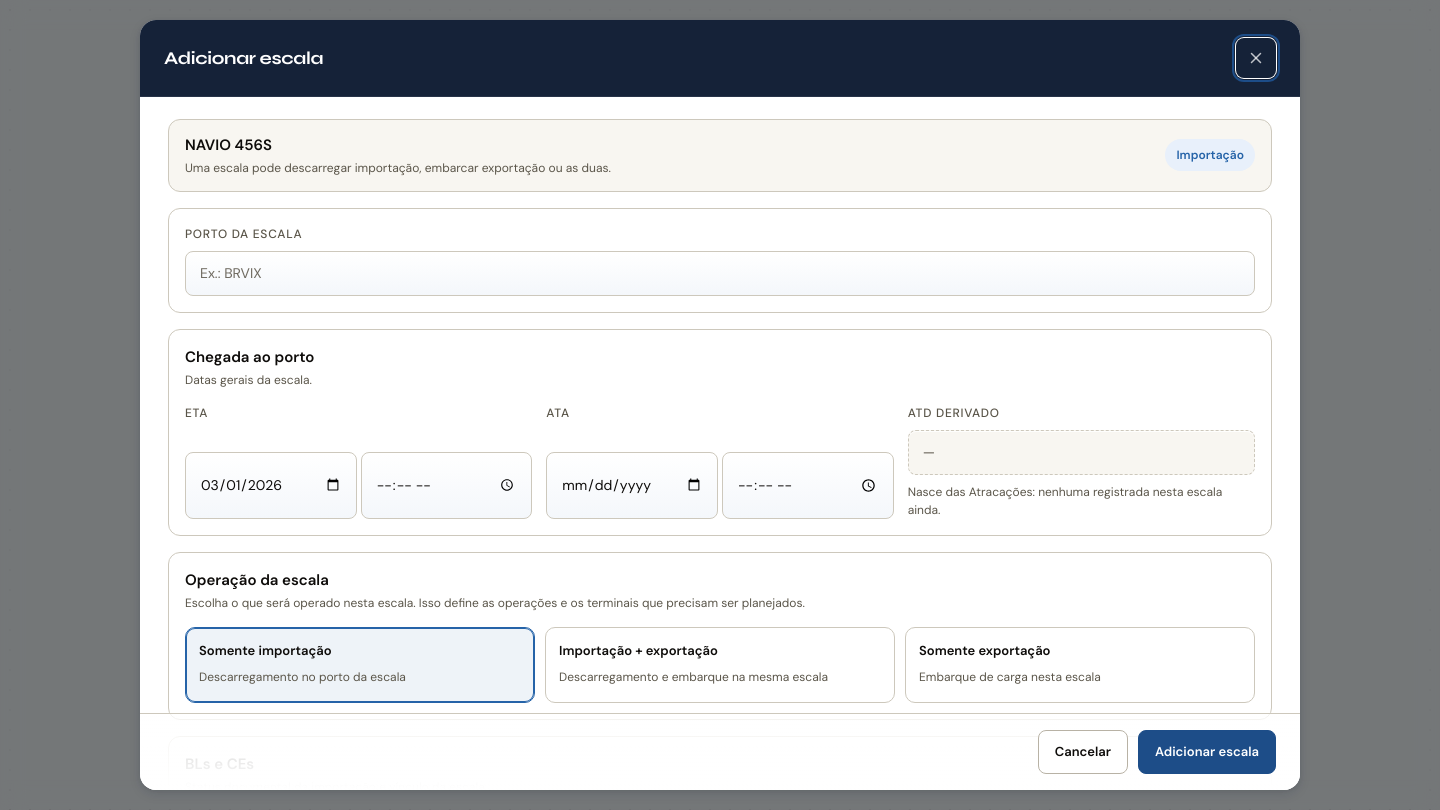
it: EscalaModal › exige uma frente ao declarar exportação em uma escala nova
This screenshot has width=1440, height=810.
Type "BRVIX" into the field labelled "Porto da escala" at x=720, y=273, box [185,251,1255,296]
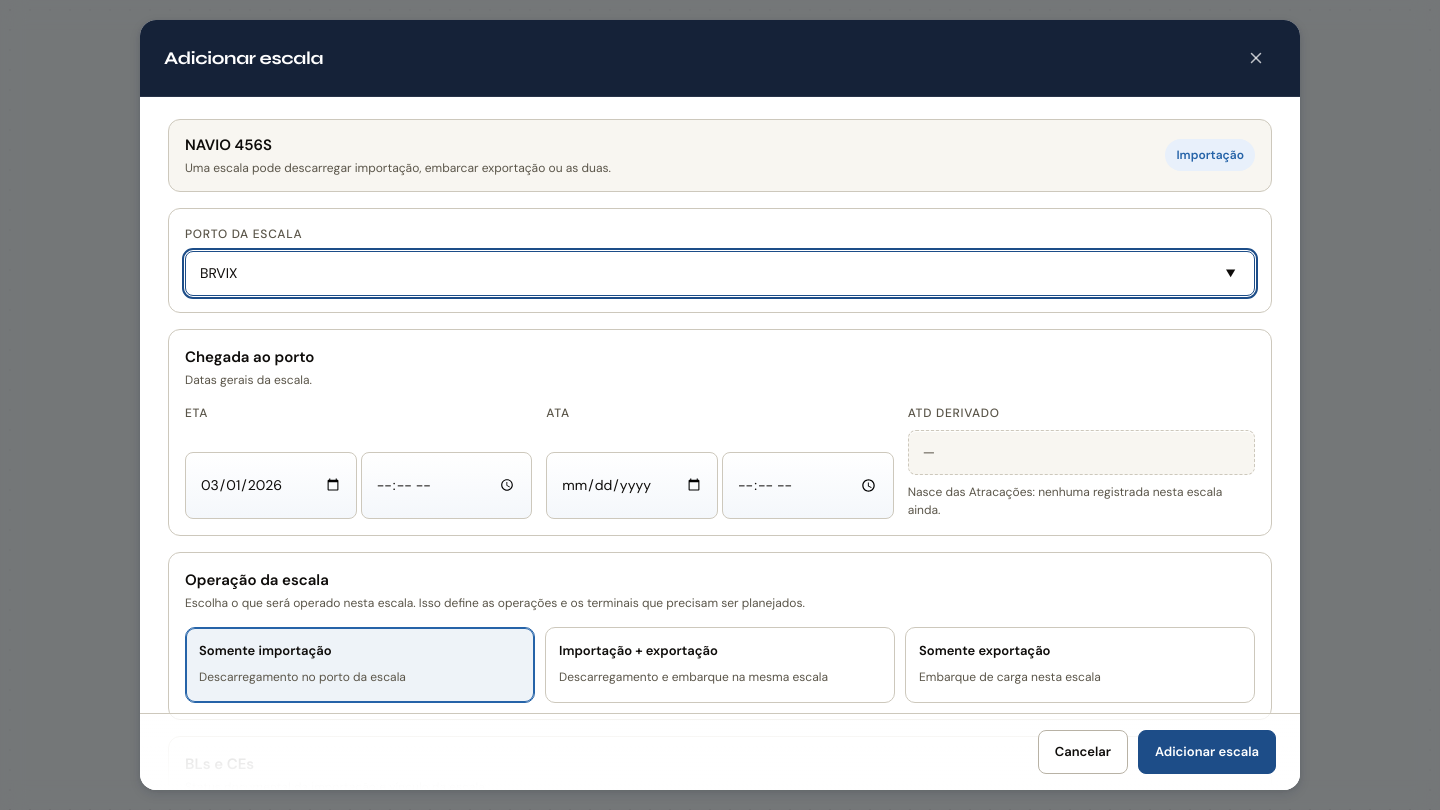
Click the button "Somente exportação" at x=985, y=650, box [905,627,1255,703]
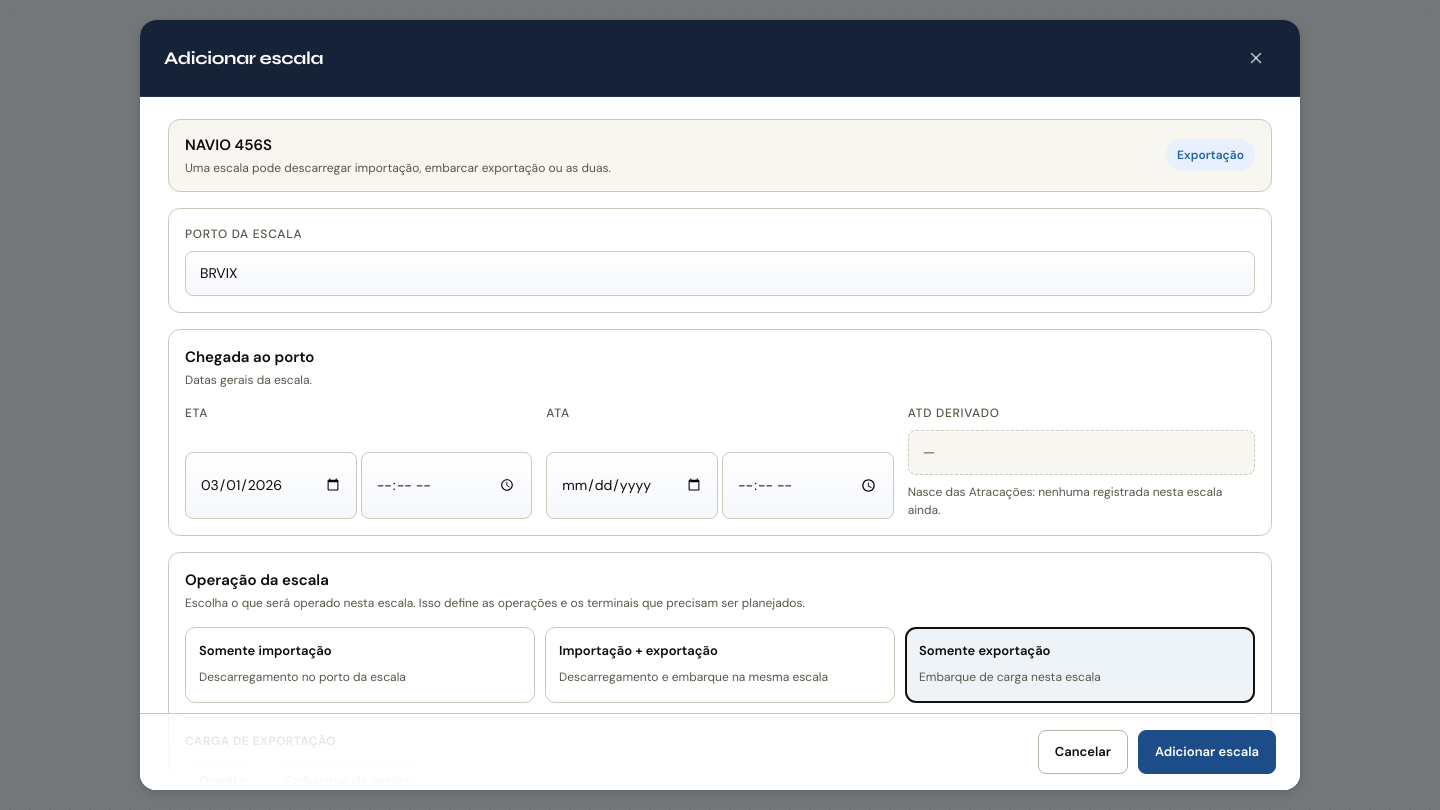
Click the button "Adicionar escala" at x=1207, y=752, box [1138,730,1276,774]
(page scrolled)
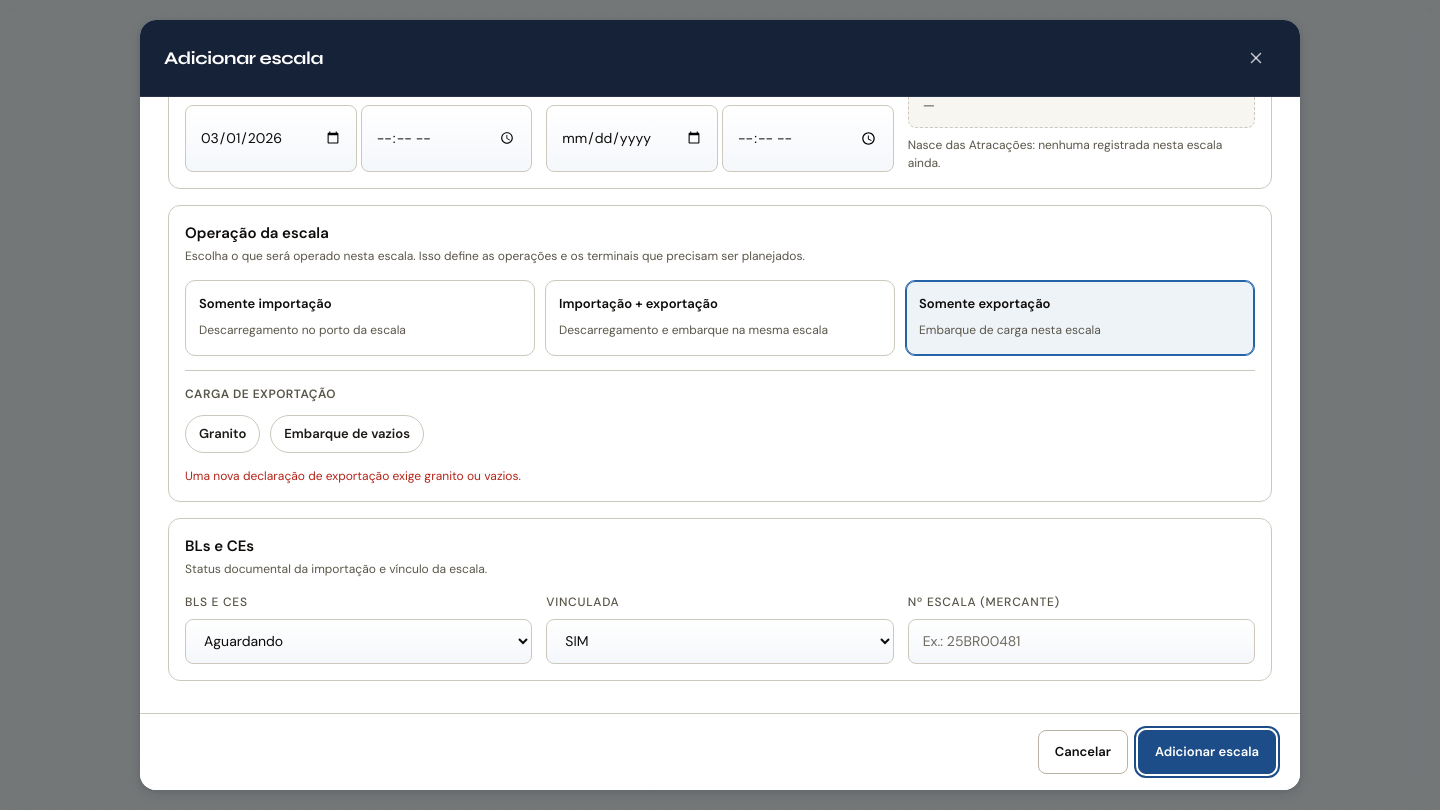
Result: the message shows "granito ou vazios" at [185,468,521,484]
